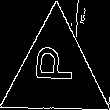P_W: (33, 53, 78, 92)
